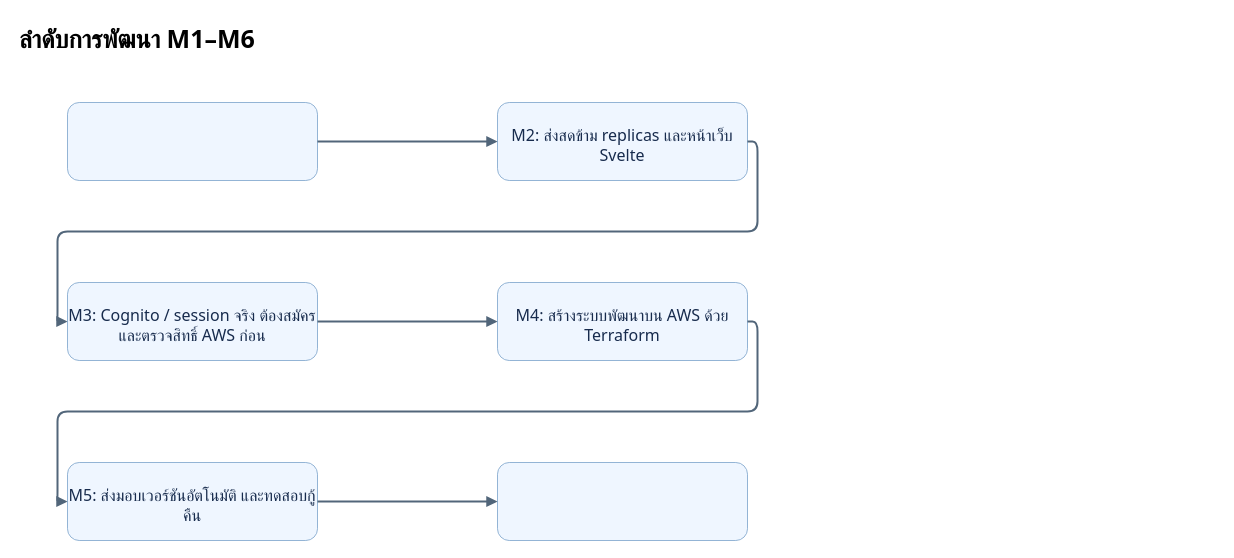
The diagram is 1234 pixels wide and 558 high, and some of its shapes have lost their labels. The centre of each missing label's shape, as x and y in pixels:
"M1: บันทึกข้อความ บนเครื่องตนเอง" goes at point 192,141.
"M6: วัดผล ซ้อมสาธิต และล้างทรัพยากร" goes at point 622,501.
